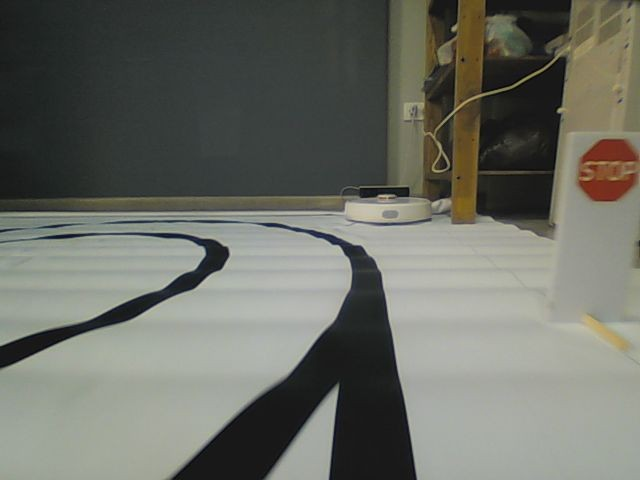Stop: (576, 141, 639, 202)
